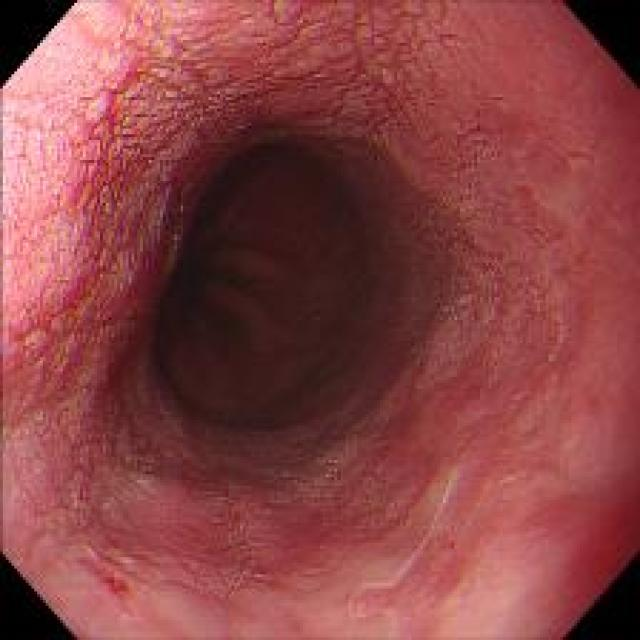contrast: (190, 166, 390, 430)
